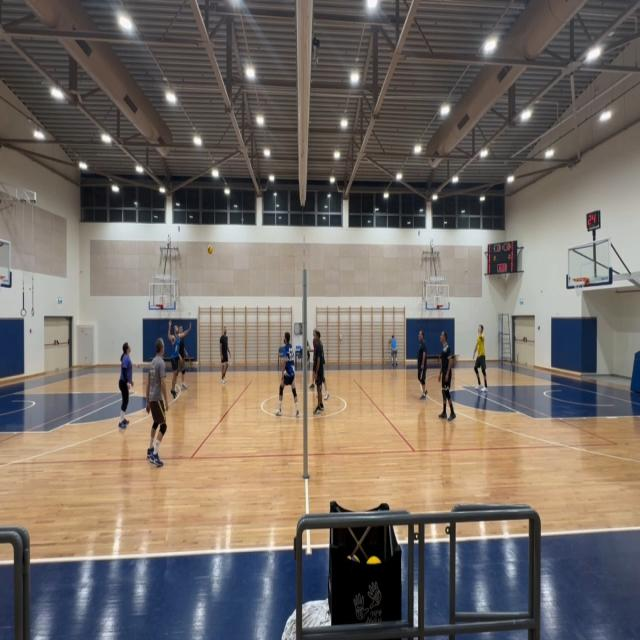volleyball: (207, 244, 213, 255)
